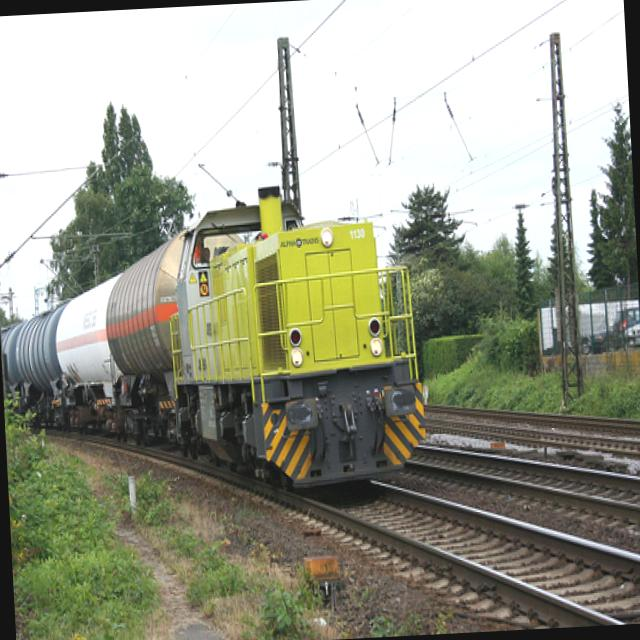Vehicle: (586, 310, 640, 353), (623, 311, 640, 347)
